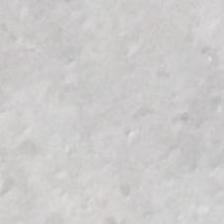Non_Crack: (42, 13, 223, 224)
